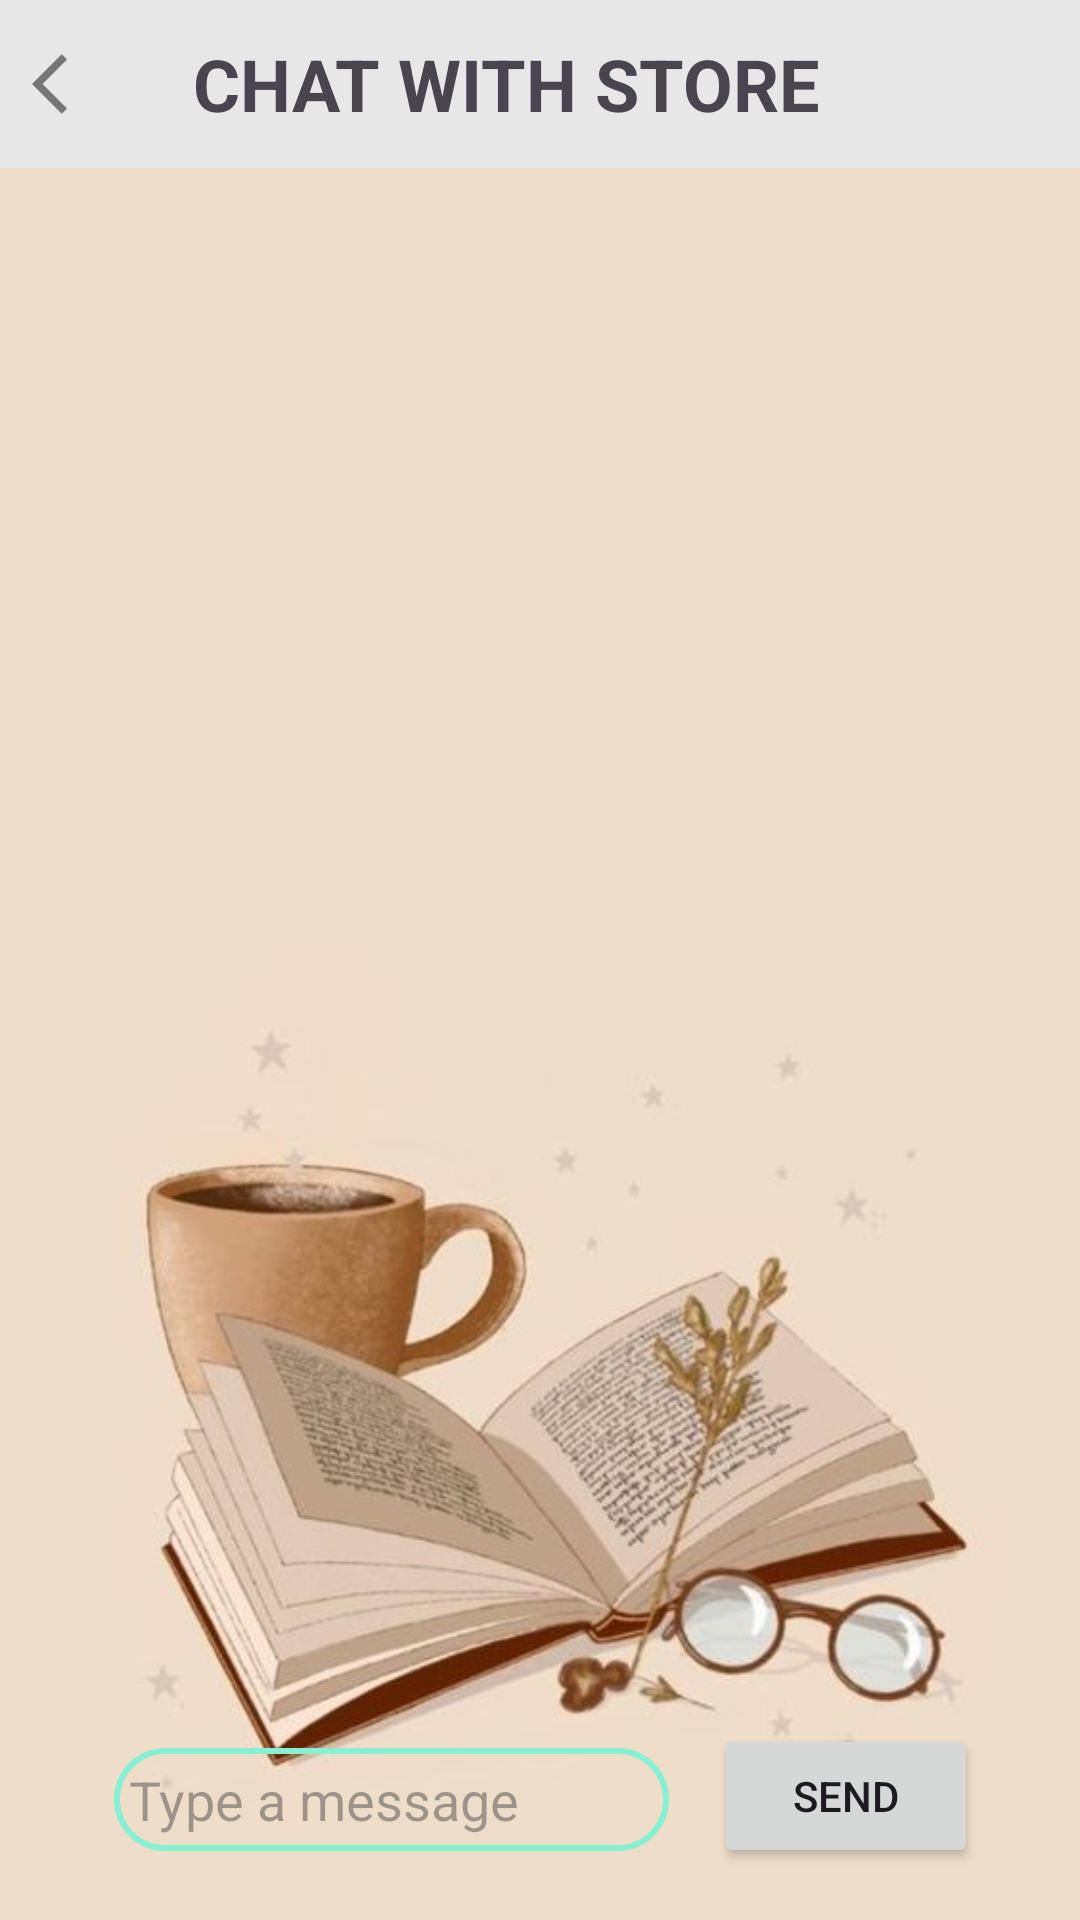

Icons on this 1080×1920 Android screen, each with the point to tap as (x,y):
back: (49,84)
